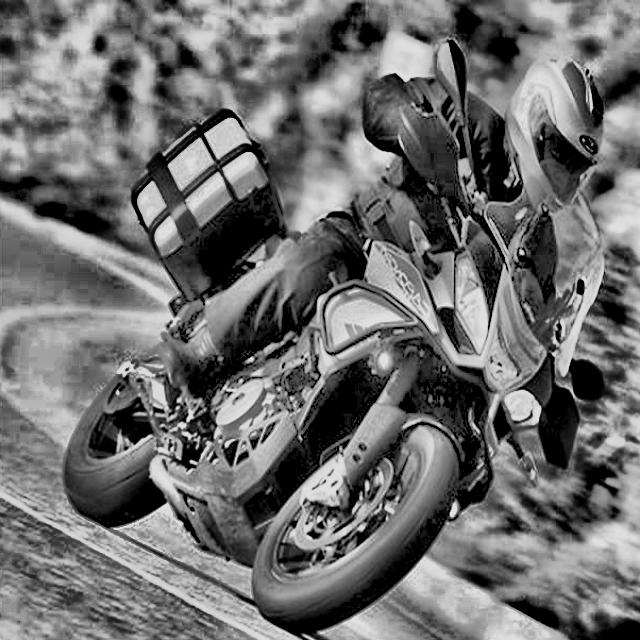Helmet: (496, 51, 611, 219)
